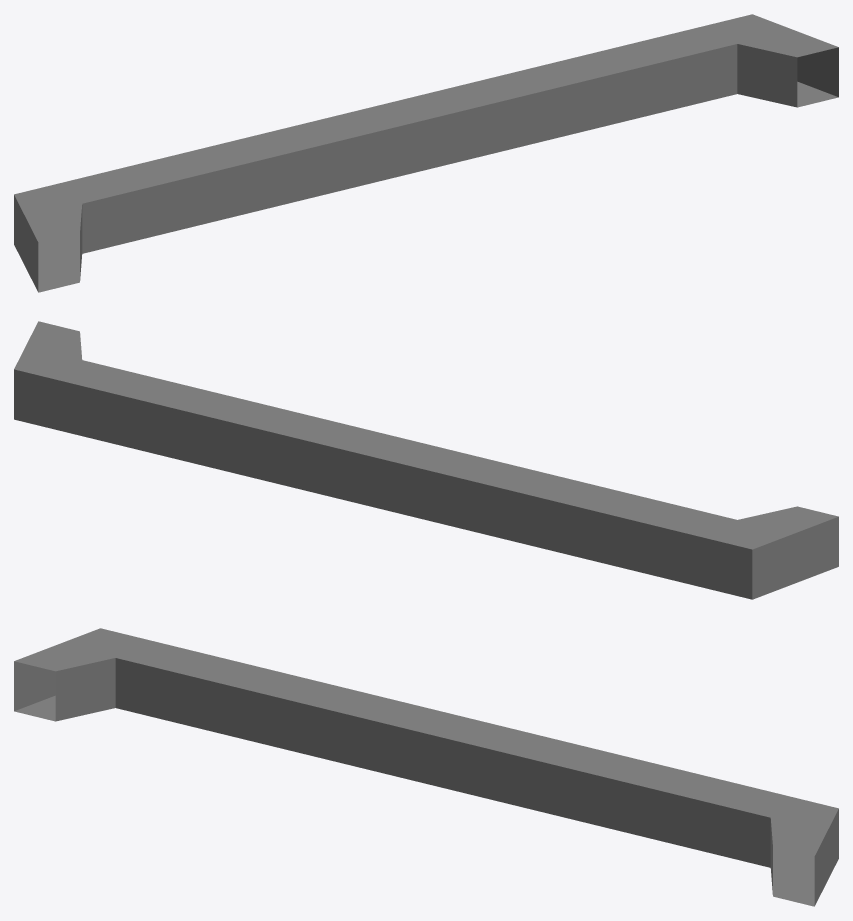
File: Door_Handle2.fbx
3 views of the same model, one above another, from view 1: azimuth 30°, elevation 25°; view 2: azimuth 150°, elevation 25°; view 3: azimuth 330°, elevation 25° (orthographic).
Visible parts, largest first — view 1: Door_Handle2; view 2: Door_Handle2; view 3: Door_Handle2.
Part boxes in pixels (box(x1,y1,x2,y2)): Door_Handle2: box(14, 14, 838, 292); Door_Handle2: box(14, 321, 838, 599); Door_Handle2: box(14, 628, 838, 906).
Bounding box in the file's own units: 77.32 × 4.63 × 9.28.
